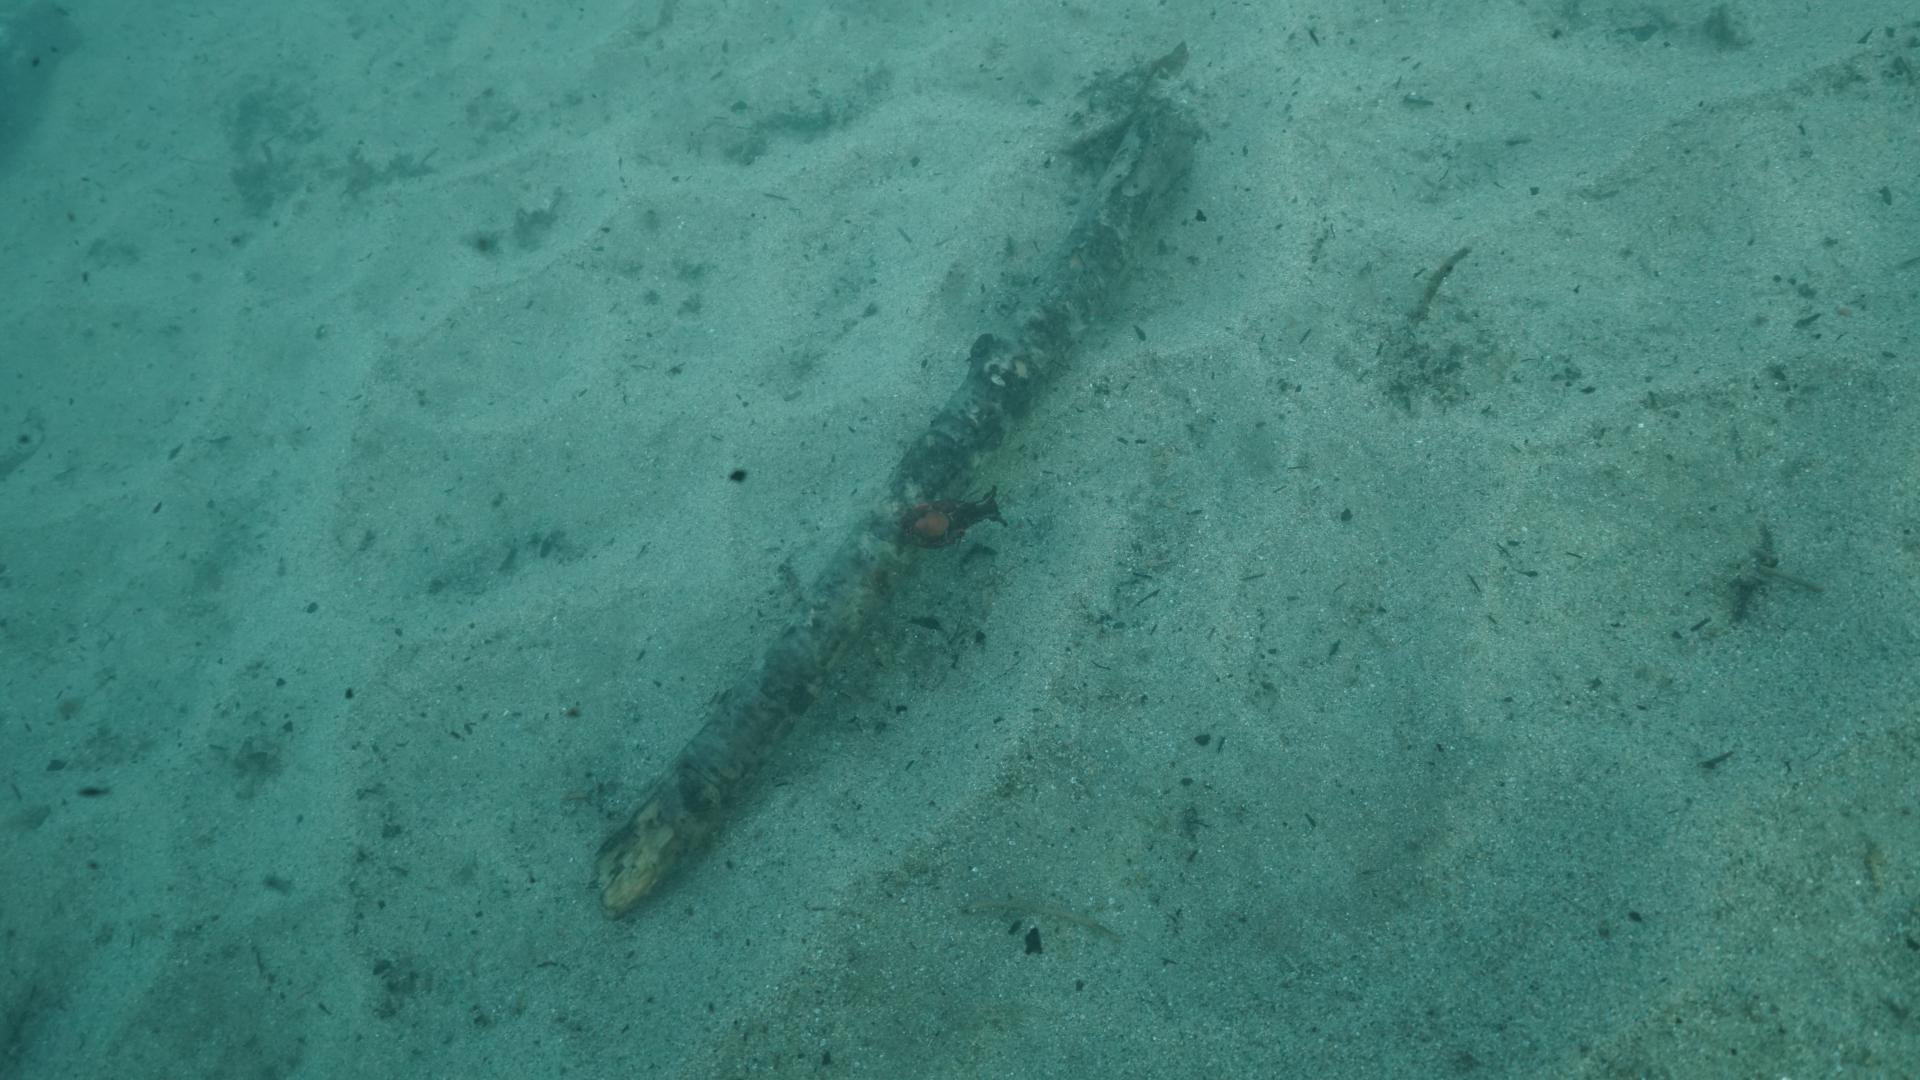wood: (589, 42, 1203, 918)
